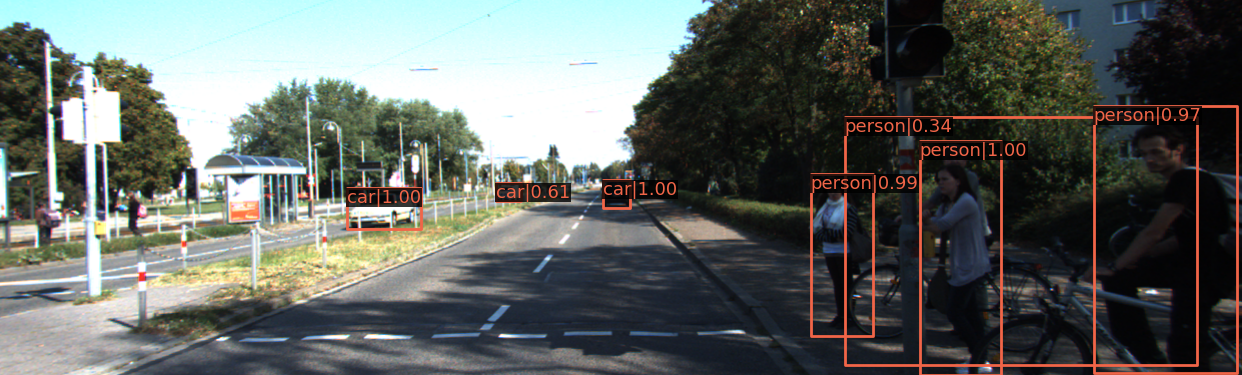car: (351, 194, 416, 230), (604, 181, 631, 208)
person: (916, 162, 1000, 375), (815, 173, 875, 327)
